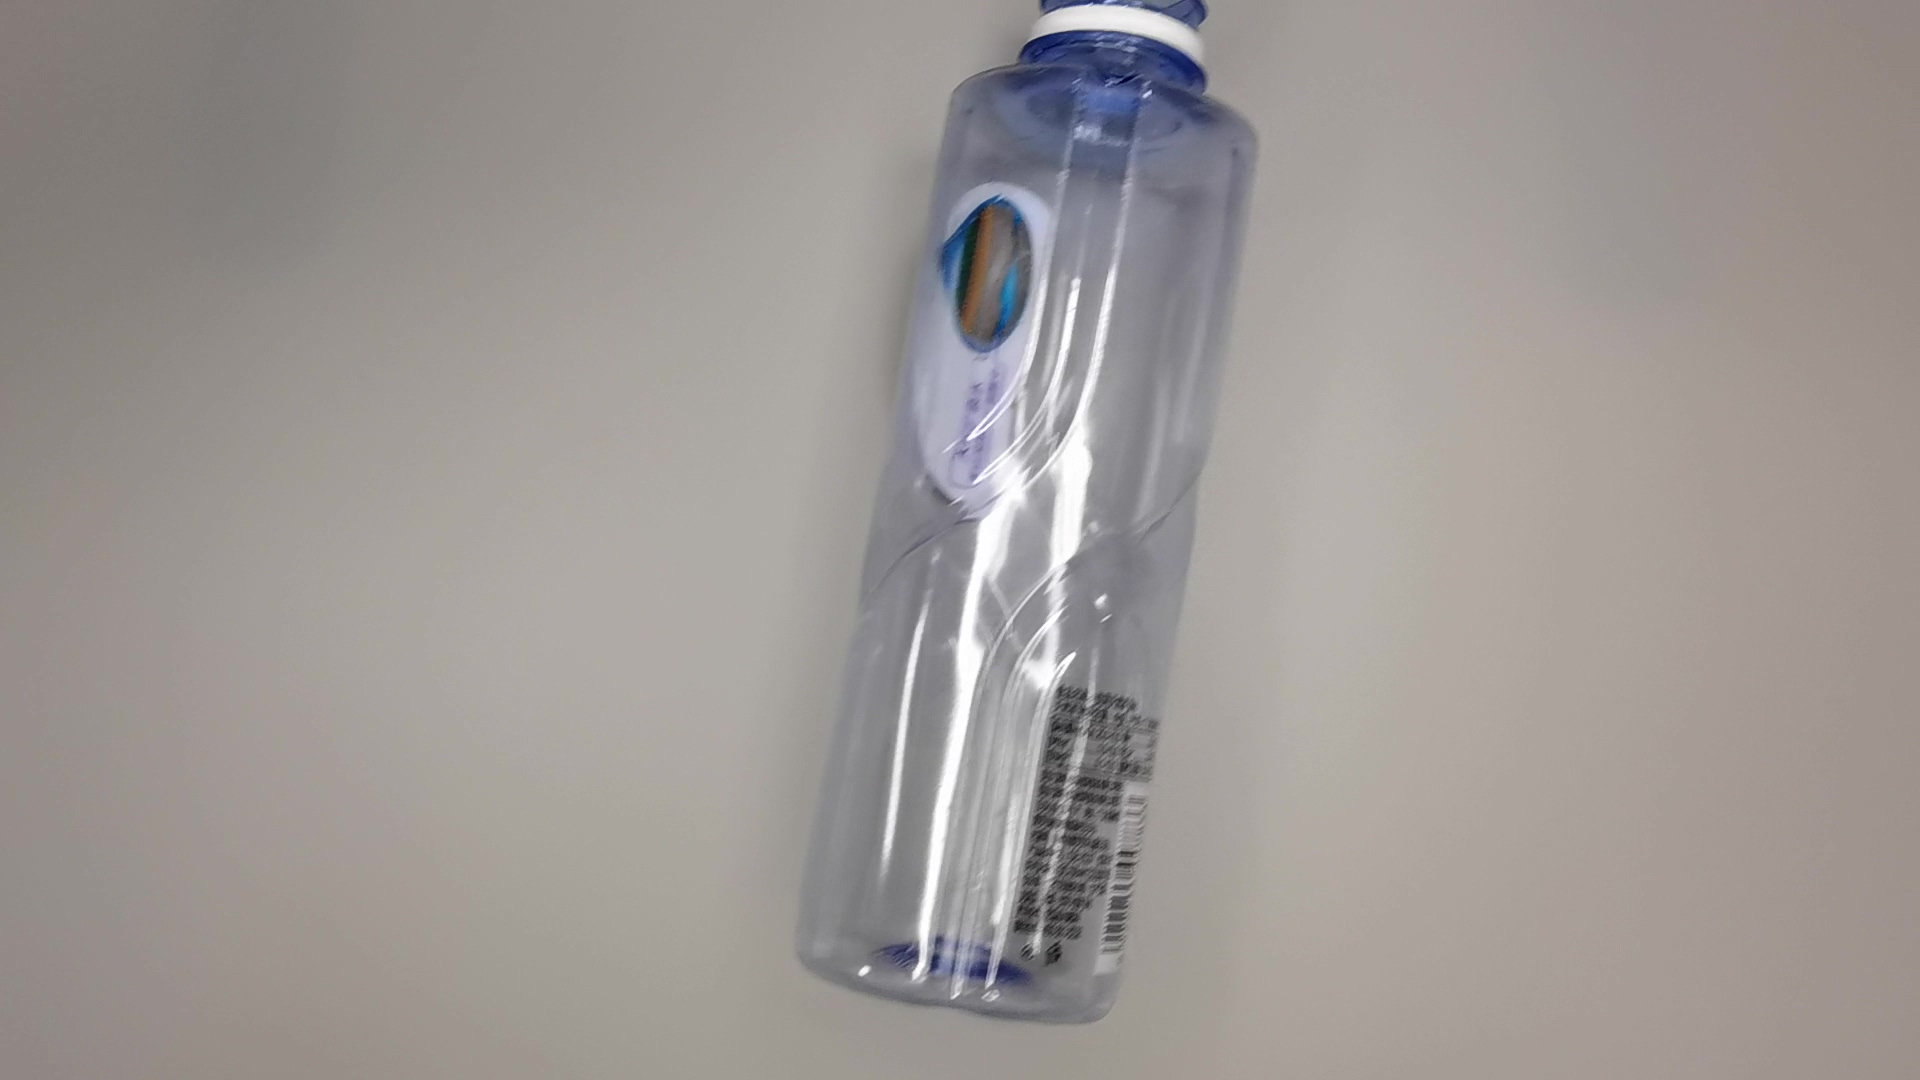bottle: (789, 1, 1273, 1034)
